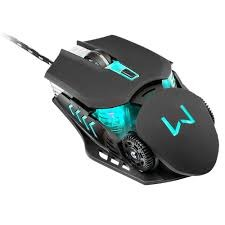mouse: (36, 33, 221, 188)
